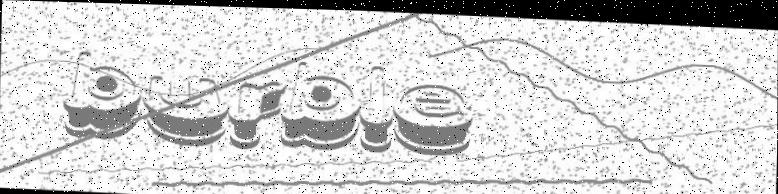b: (61, 46, 143, 140), (282, 58, 363, 150)
e: (394, 77, 473, 153)
l: (357, 60, 395, 152)
r: (231, 76, 285, 149)
u: (143, 69, 230, 147)
